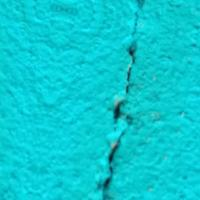crack: (82, 0, 144, 199)
